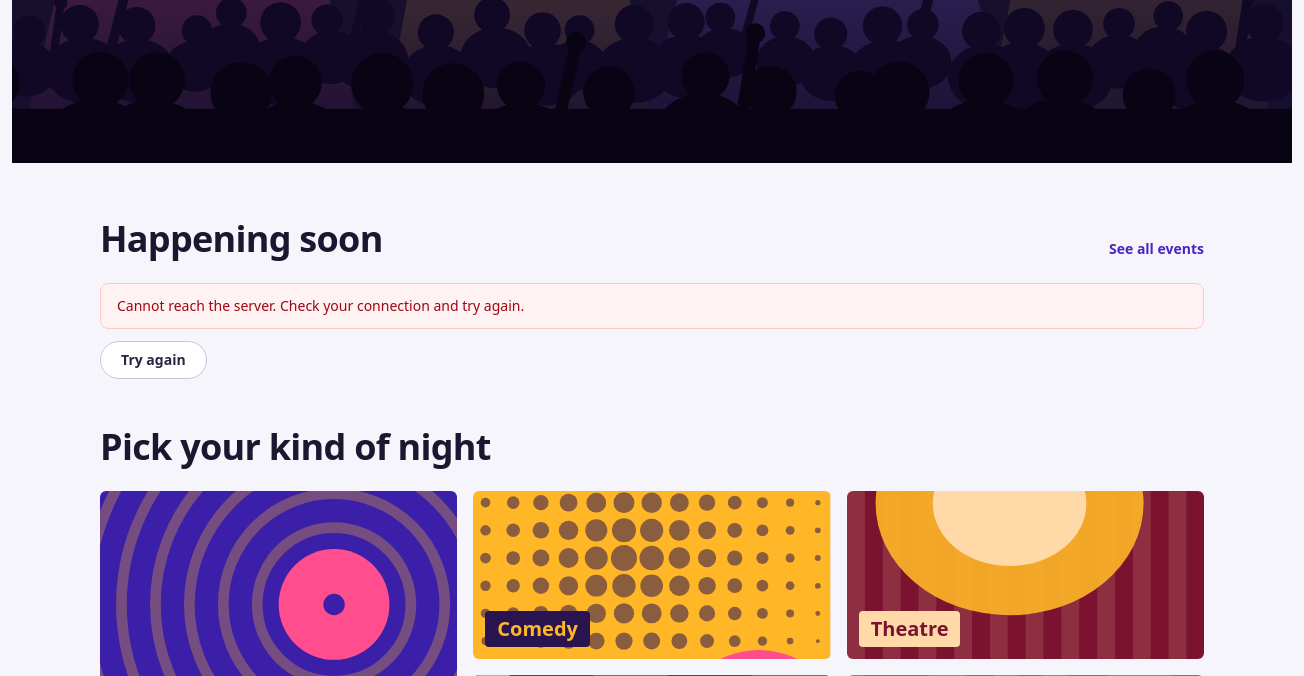
HomePage › shows a friendly error and lets the person try again
(page scrolled)
Expected: the message shows "Cannot reach the server", [117,296,524,315]
Click the button "Try again". click: point(153, 360)
box: [100,341,207,379]
(page scrolled)
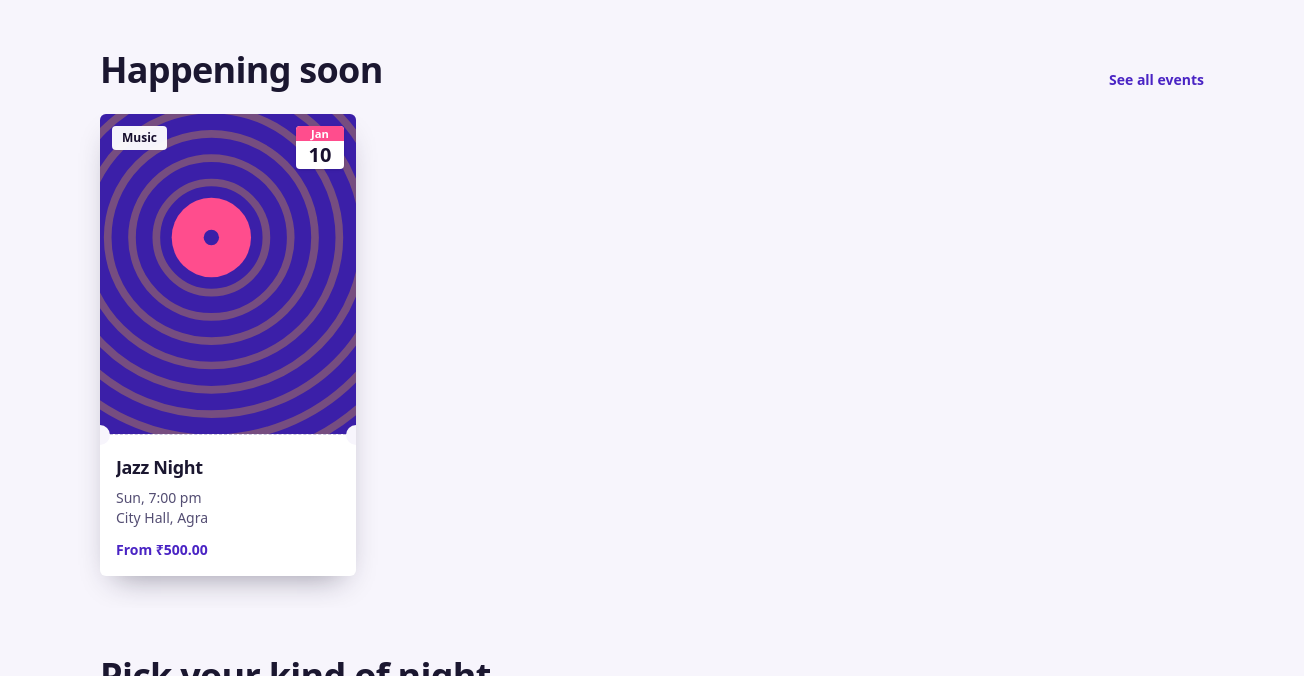
Now the element named "Upcoming events" is shown, box [100,114,356,576]
